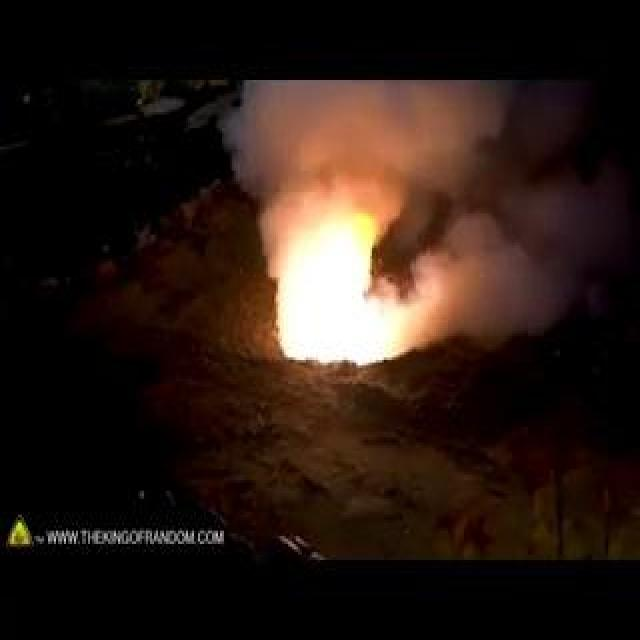Fire: (178, 176, 321, 298)
